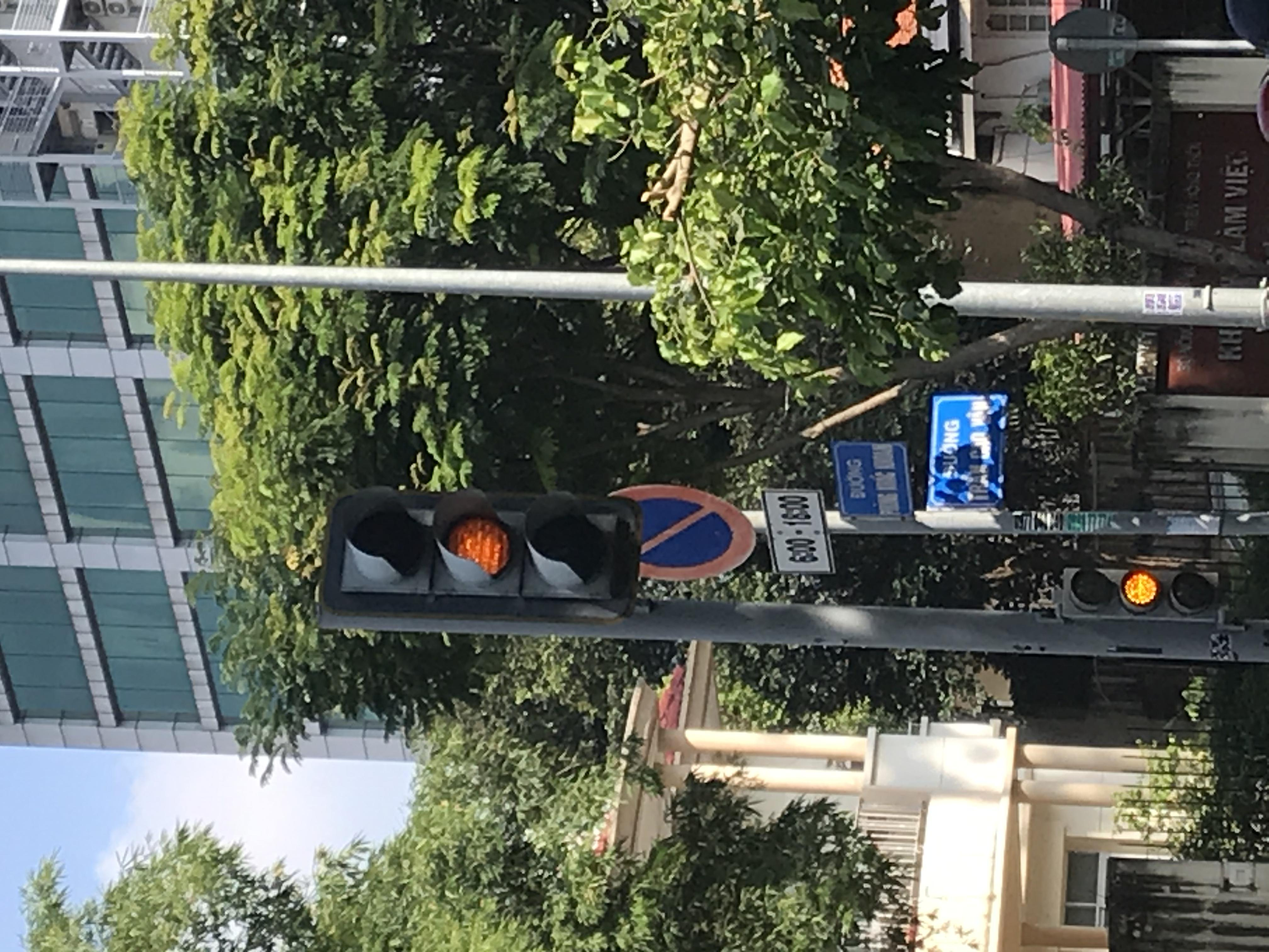yellow_light: (443, 237, 617, 480), (445, 796, 512, 916)
